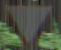Give way: (2, 2, 51, 49)
